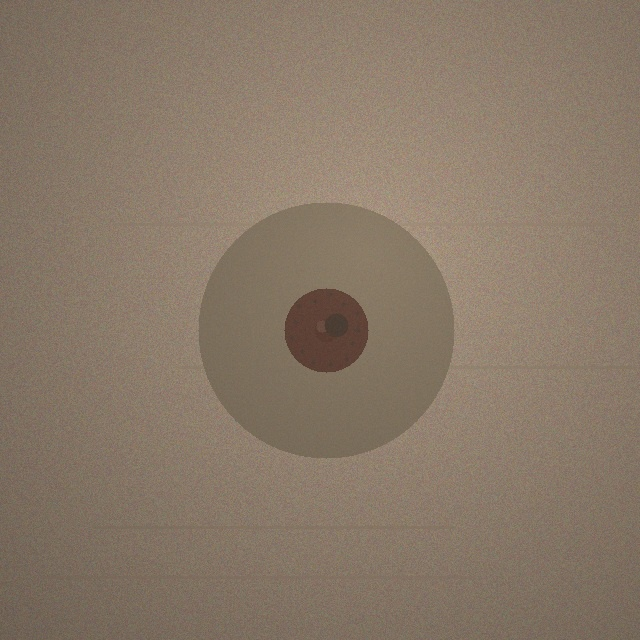cold_weld: (198, 202, 454, 458)
